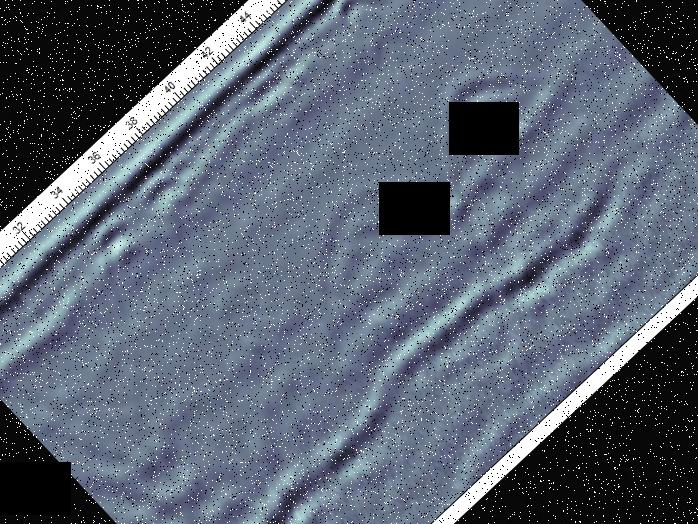Hyperbola: (225, 98, 535, 406), (365, 0, 685, 283), (321, 0, 401, 50)
